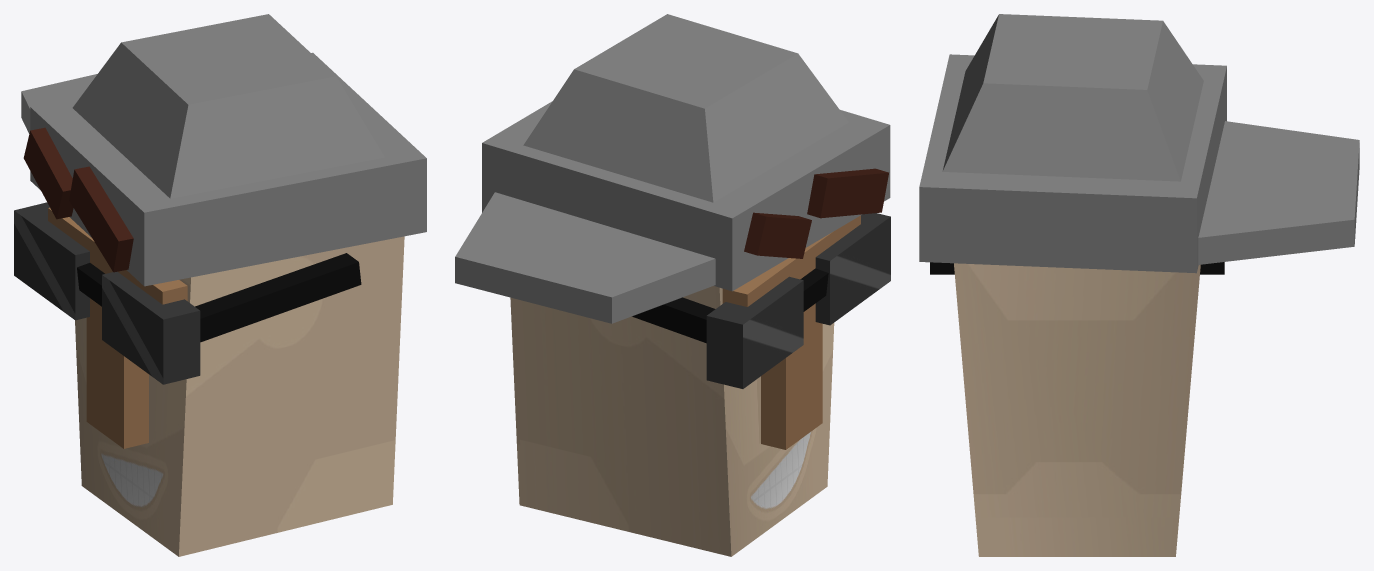
File: headMain.obj
3 views of the same model, side by side, from view 1: azimuth 30°, elevation 25°; view 2: azimuth 150°, elevation 25°; view 3: azimuth 270°, elevation 25° (orthographic). The views are drawn at different scales.
Visible parts, largest first — view 1: Cube, Cube.003, Cube.004, Cube.008, Cube.009, Cube.002, Cube.007, Cube.005, Cube.006, Cube.001, Cube.010; view 2: Cube, Cube.003, Cube.004, Cube.010, Cube.007, Cube.002, Cube.008, Cube.005, Cube.009, Cube.006, Cube.001; view 3: Cube, Cube.003, Cube.004, Cube.010, Cube.009.
Boxes of the visible parts, x1=… form: Cube: x1=75, y1=236, x2=404, y2=556; Cube.003: x1=72, y1=14, x2=384, y2=198; Cube.004: x1=30, y1=52, x2=426, y2=286; Cube.008: x1=102, y1=271, x2=200, y2=384; Cube.009: x1=77, y1=253, x2=361, y2=342; Cube.002: x1=86, y1=258, x2=148, y2=448; Cube.007: x1=14, y1=202, x2=89, y2=320; Cube.005: x1=69, y1=166, x2=133, y2=272; Cube.006: x1=23, y1=127, x2=73, y2=219; Cube.001: x1=48, y1=207, x2=187, y2=304; Cube.010: x1=21, y1=74, x2=97, y2=133; Cube: x1=510, y1=286, x2=834, y2=556; Cube.003: x1=523, y1=14, x2=848, y2=202; Cube.004: x1=482, y1=101, x2=890, y2=291; Cube.010: x1=455, y1=192, x2=715, y2=323; Cube.007: x1=706, y1=276, x2=803, y2=388; Cube.002: x1=761, y1=263, x2=822, y2=449; Cube.008: x1=815, y1=213, x2=890, y2=325; Cube.005: x1=807, y1=168, x2=888, y2=218; Cube.009: x1=632, y1=268, x2=828, y2=343; Cube.006: x1=744, y1=212, x2=811, y2=258; Cube.001: x1=722, y1=215, x2=860, y2=306; Cube: x1=954, y1=263, x2=1200, y2=556; Cube.003: x1=942, y1=14, x2=1203, y2=181; Cube.004: x1=919, y1=54, x2=1226, y2=273; Cube.010: x1=1198, y1=121, x2=1359, y2=264; Cube.009: x1=930, y1=262, x2=1224, y2=274.
Bounding box in the file's own units: 2.83 × 3.93 × 3.51.
